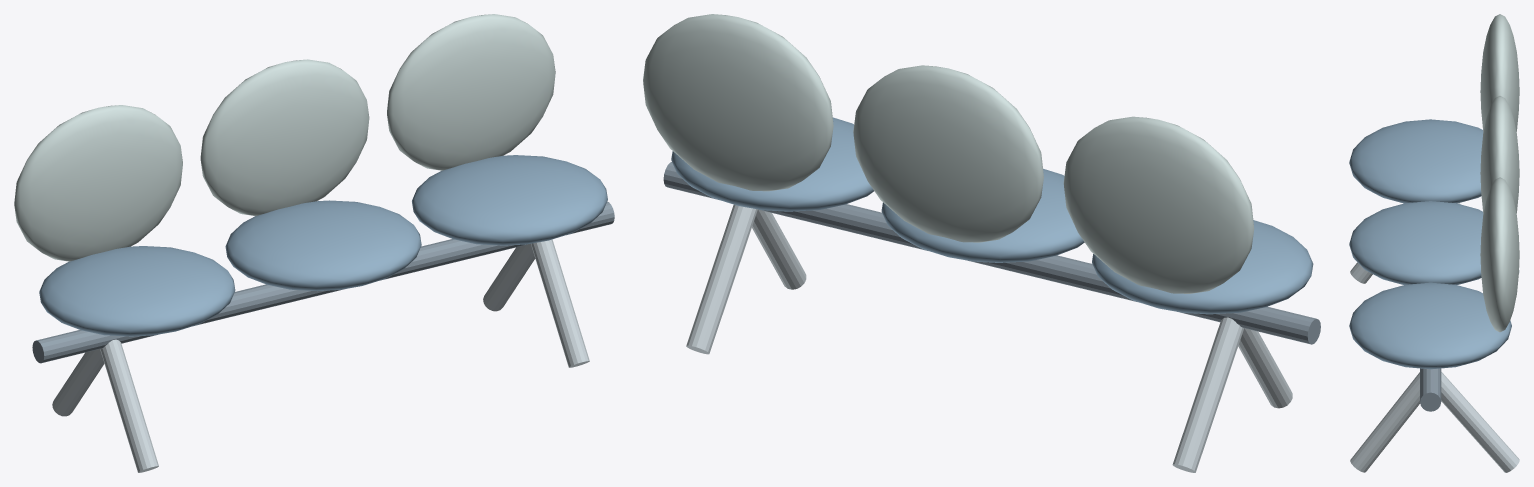
File: hospital_waiting_seats.glb
3 renders of one model, left to right at view 1: azimuth 30°, elevation 25°; view 2: azimuth 150°, elevation 25°; view 3: azimuth 270°, elevation 25°, orthographic. The views are drawn at different scales.
Parts seen in each view (by area): view 1: decor_9bb7b5_fabric, decor_476a8a_fabric, decor_9aadb8_metal, decor_455665_metal; view 2: decor_9bb7b5_fabric, decor_476a8a_fabric, decor_9aadb8_metal, decor_455665_metal; view 3: decor_476a8a_fabric, decor_9bb7b5_fabric, decor_9aadb8_metal, decor_455665_metal.
Boxes of the visible parts, bbox=[...] form: decor_9bb7b5_fabric: bbox=[14, 14, 555, 261]; decor_476a8a_fabric: bbox=[39, 155, 607, 336]; decor_9aadb8_metal: bbox=[52, 239, 589, 472]; decor_455665_metal: bbox=[32, 201, 614, 363]; decor_9bb7b5_fabric: bbox=[643, 14, 1254, 293]; decor_476a8a_fabric: bbox=[671, 117, 1313, 314]; decor_9aadb8_metal: bbox=[686, 204, 1292, 472]; decor_455665_metal: bbox=[663, 162, 1320, 344]; decor_476a8a_fabric: bbox=[1349, 119, 1511, 369]; decor_9bb7b5_fabric: bbox=[1480, 14, 1519, 332]; decor_9aadb8_metal: bbox=[1350, 203, 1519, 472]; decor_455665_metal: bbox=[1420, 368, 1441, 411].
Size of the model in its own units: 1.96 by 0.9956 by 0.5655.
